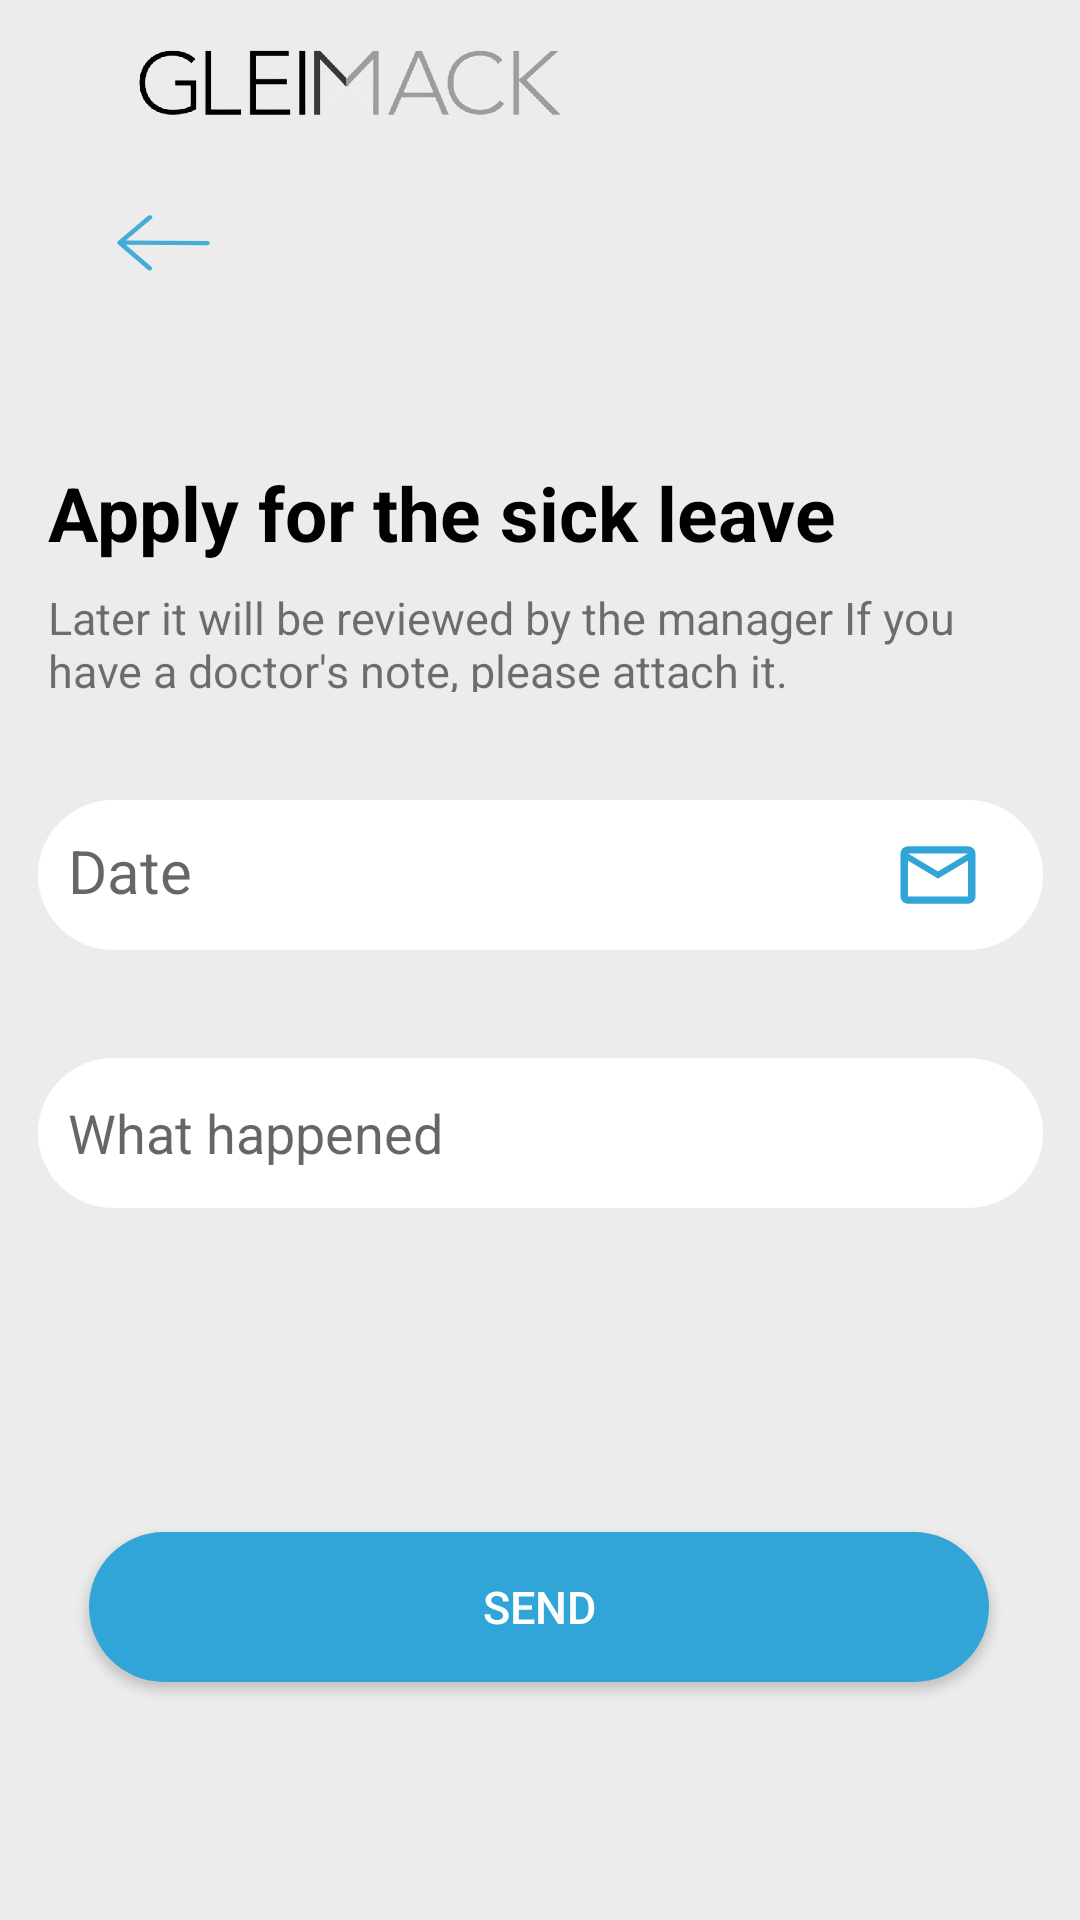

Named icons in this screenshot (1080x1920) and their centers, point (x, y):
arrow: point (163, 243)
